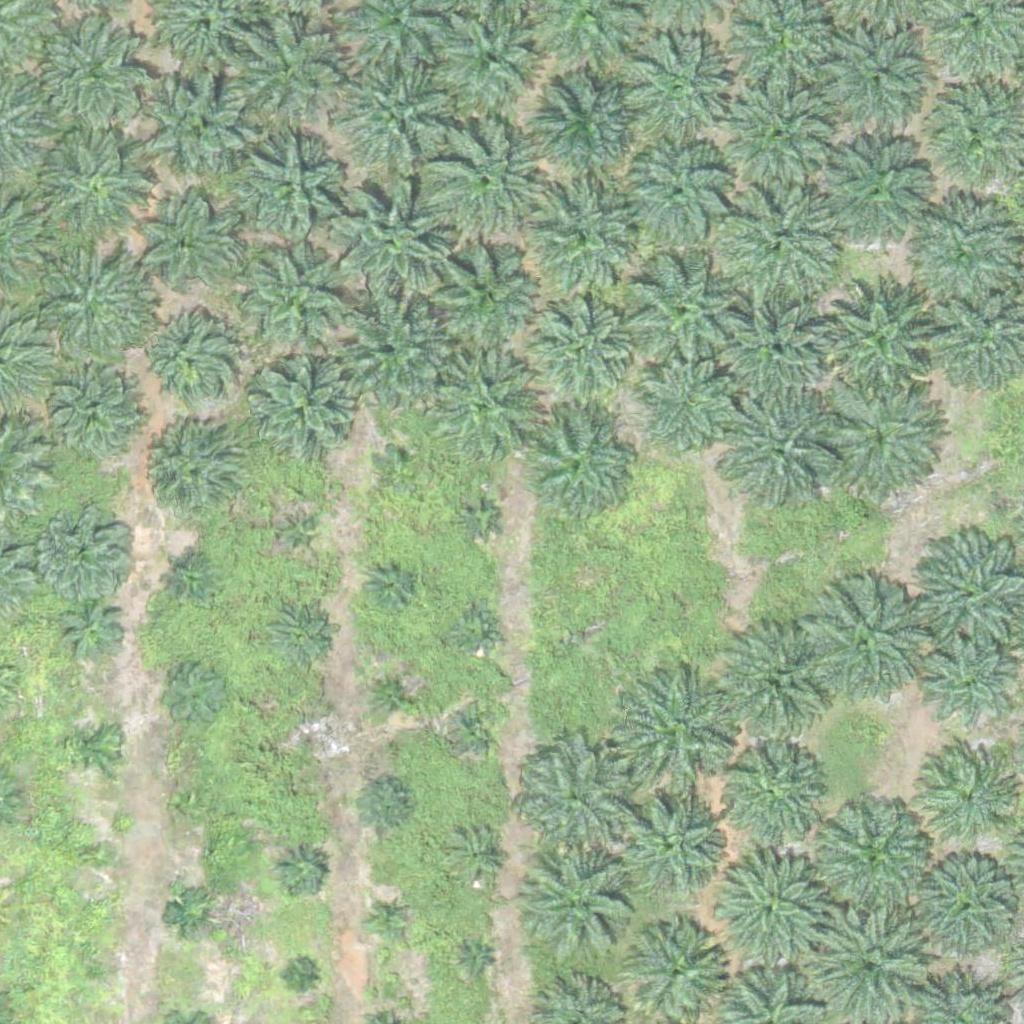Kelapa_Sawit: (233, 241, 358, 367), (334, 50, 459, 176), (329, 185, 454, 311), (329, 300, 454, 426), (426, 115, 551, 241), (416, 228, 541, 354), (612, 32, 737, 158), (617, 252, 742, 378), (722, 72, 847, 198), (721, 180, 846, 306), (717, 388, 842, 514), (816, 273, 941, 399), (820, 377, 945, 503), (801, 584, 926, 710), (618, 669, 743, 795), (810, 792, 935, 918), (35, 242, 160, 367), (897, 191, 1022, 316), (518, 289, 631, 403), (530, 182, 643, 296), (631, 351, 744, 465), (720, 623, 833, 737), (38, 15, 151, 128), (38, 128, 151, 241), (136, 66, 249, 179), (250, 356, 363, 469), (522, 408, 635, 521), (533, 70, 646, 183), (817, 136, 930, 249), (818, 22, 931, 135), (710, 850, 823, 963), (230, 17, 342, 131), (232, 130, 344, 243), (429, 356, 541, 469), (623, 140, 735, 253), (715, 296, 827, 409), (519, 742, 631, 855), (528, 848, 640, 961), (45, 366, 145, 467), (135, 194, 235, 295), (137, 311, 237, 412), (135, 424, 235, 525), (918, 633, 1018, 734), (621, 792, 721, 893), (627, 920, 727, 1021), (40, 501, 140, 602), (916, 748, 1016, 848), (914, 857, 1014, 957), (720, 741, 820, 841), (154, 657, 229, 732), (352, 774, 415, 837), (270, 605, 332, 668), (61, 596, 123, 659), (451, 831, 501, 882), (67, 719, 117, 770), (274, 844, 324, 895), (367, 666, 417, 717), (365, 557, 415, 607), (166, 891, 216, 941), (451, 704, 501, 754), (454, 494, 504, 544), (450, 605, 500, 655), (270, 509, 320, 559), (373, 440, 423, 490), (362, 894, 412, 944), (174, 787, 212, 825), (172, 563, 210, 600), (297, 720, 322, 745), (463, 949, 488, 974), (286, 963, 311, 988), (85, 956, 110, 981), (85, 840, 110, 865)
